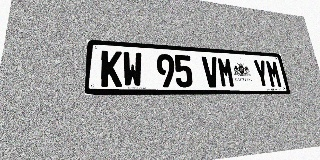5: (174, 54, 193, 87)
9: (156, 53, 176, 87)
K: (101, 50, 122, 87)
M: (217, 57, 236, 87), (265, 60, 283, 88)
V: (201, 56, 220, 87)
W: (123, 51, 143, 87)
Y: (252, 59, 270, 88)
